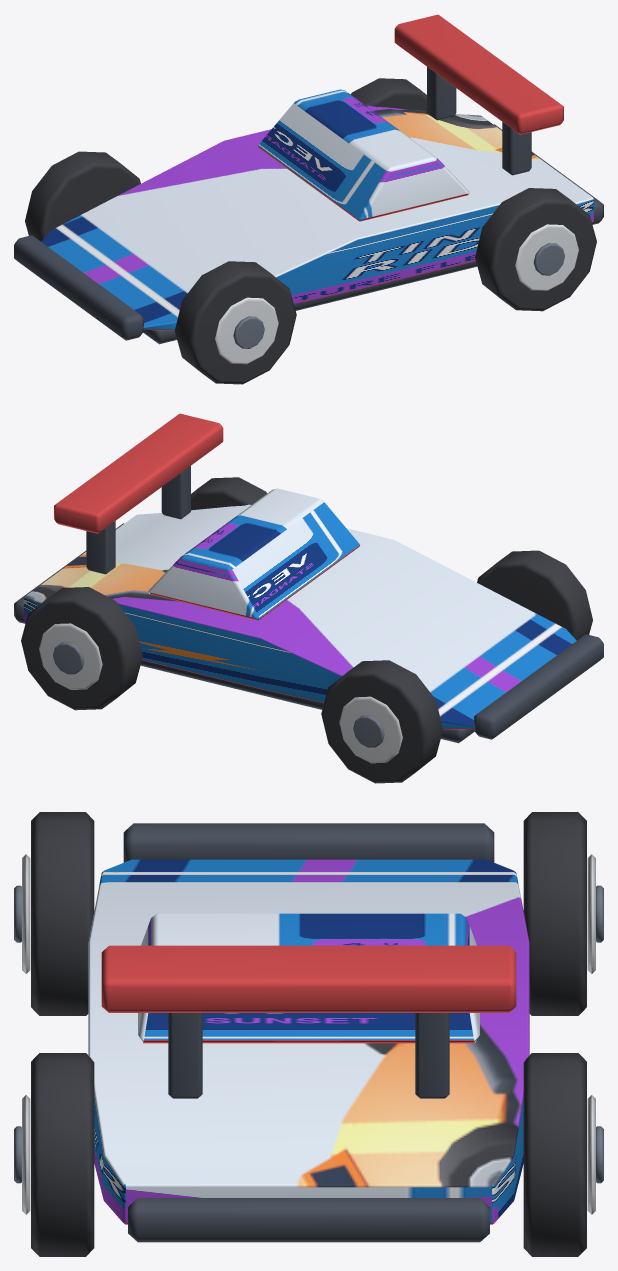
3 views of the same model, one above another, from view 1: azimuth 30°, elevation 25°; view 2: azimuth 150°, elevation 25°; view 3: azimuth 270°, elevation 25° (orthographic). The views are drawn at different scales.
Visible parts, largest first — view 1: FF-05_connected_shell, FF-05_cabin, rear airfoil, Tire.002, Tire, Tire.001, front bumper, Rim.002, Rim, Tire.003, underbody, wing support (+3 smaller); view 2: FF-05_connected_shell, FF-05_cabin, rear airfoil, Tire.003, Tire.001, Tire, front bumper, Rim.003, Rim.001, Tire.002, underbody, wing support.001 (+3 smaller); view 3: FF-05_connected_shell, rear airfoil, FF-05_cabin, rear bumper, front bumper, Tire.002, Tire.003, Tire, Tire.001, wing support, wing support.001, Rim (+3 smaller).
Boxes of the visible parts, x1=… form: FF-05_connected_shell: x1=41, y1=105, x2=593, y2=330; FF-05_cabin: x1=258, y1=89, x2=469, y2=221; rear airfoil: x1=394, y1=14, x2=563, y2=134; Tire.002: x1=475, y1=188, x2=596, y2=311; Tire: x1=175, y1=261, x2=296, y2=384; Tire.001: x1=25, y1=151, x2=140, y2=241; front bumper: x1=14, y1=235, x2=143, y2=340; Rim.002: x1=515, y1=224, x2=578, y2=290; Rim: x1=215, y1=297, x2=278, y2=364; Tire.003: x1=350, y1=78, x2=426, y2=111; underbody: x1=143, y1=261, x2=477, y2=344; wing support: x1=502, y1=122, x2=531, y2=175; FF-05_connected_shell: x1=24, y1=504, x2=576, y2=729; FF-05_cabin: x1=148, y1=488, x2=359, y2=620; rear airfoil: x1=54, y1=413, x2=223, y2=533; Tire.003: x1=21, y1=587, x2=142, y2=710; Tire.001: x1=321, y1=660, x2=442, y2=783; Tire: x1=477, y1=550, x2=592, y2=640; front bumper: x1=474, y1=634, x2=603, y2=739; Rim.003: x1=39, y1=623, x2=102, y2=689; Rim.001: x1=339, y1=696, x2=402, y2=763; Tire.002: x1=191, y1=477, x2=267, y2=510; underbody: x1=140, y1=660, x2=474, y2=743; wing support.001: x1=86, y1=521, x2=115, y2=574; FF-05_connected_shell: x1=88, y1=859, x2=529, y2=1224; rear airfoil: x1=101, y1=945, x2=516, y2=1012; FF-05_cabin: x1=138, y1=913, x2=479, y2=1043; rear bumper: x1=128, y1=1198, x2=489, y2=1242; front bumper: x1=123, y1=823, x2=494, y2=862; Tire.002: x1=31, y1=1053, x2=94, y2=1256; Tire.003: x1=523, y1=1053, x2=586, y2=1256; Tire: x1=31, y1=812, x2=94, y2=1015; Tire.001: x1=523, y1=812, x2=586, y2=1015; wing support: x1=168, y1=1013, x2=202, y2=1098; wing support.001: x1=415, y1=1013, x2=449, y2=1098; Rim: x1=22, y1=854, x2=30, y2=973.
Size of the model in its own units: 377 by 136 by 242.
